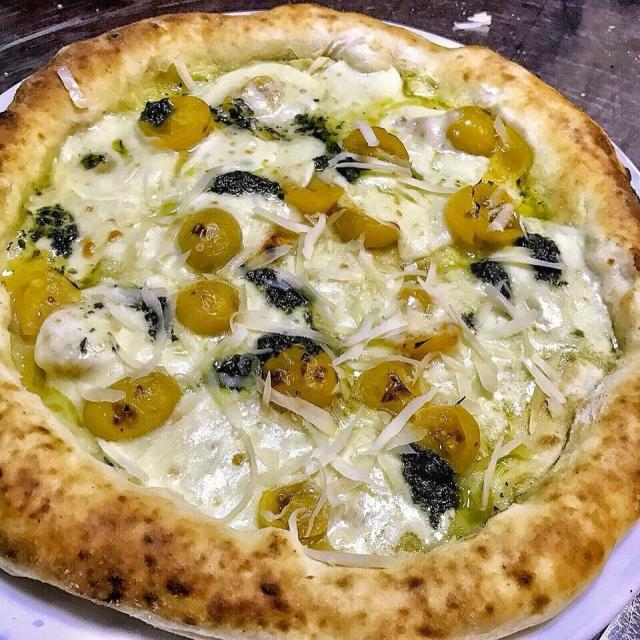pizza: (0, 0, 640, 640)
tomatoes: (433, 102, 533, 187), (82, 367, 183, 441), (2, 253, 85, 338), (402, 390, 483, 476), (248, 467, 336, 544), (254, 339, 340, 417), (444, 185, 528, 259), (160, 274, 244, 335), (134, 97, 216, 154), (175, 209, 245, 274), (352, 358, 423, 418), (332, 203, 399, 256), (342, 118, 410, 168), (280, 170, 344, 222), (391, 318, 459, 362), (397, 268, 432, 315)
